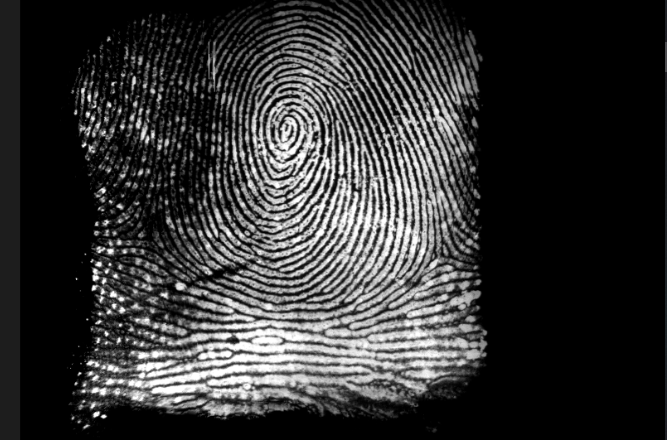nucelo: (273, 110, 304, 154)
verticilo: (132, 211, 175, 252), (420, 240, 457, 273)
